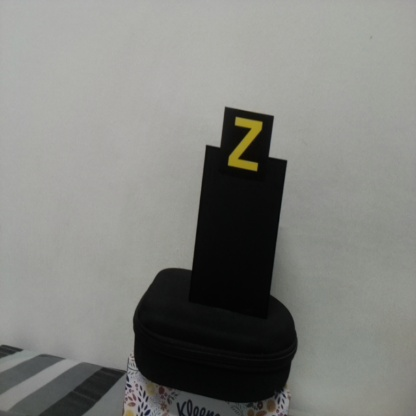id_15: (224, 109, 269, 185)
